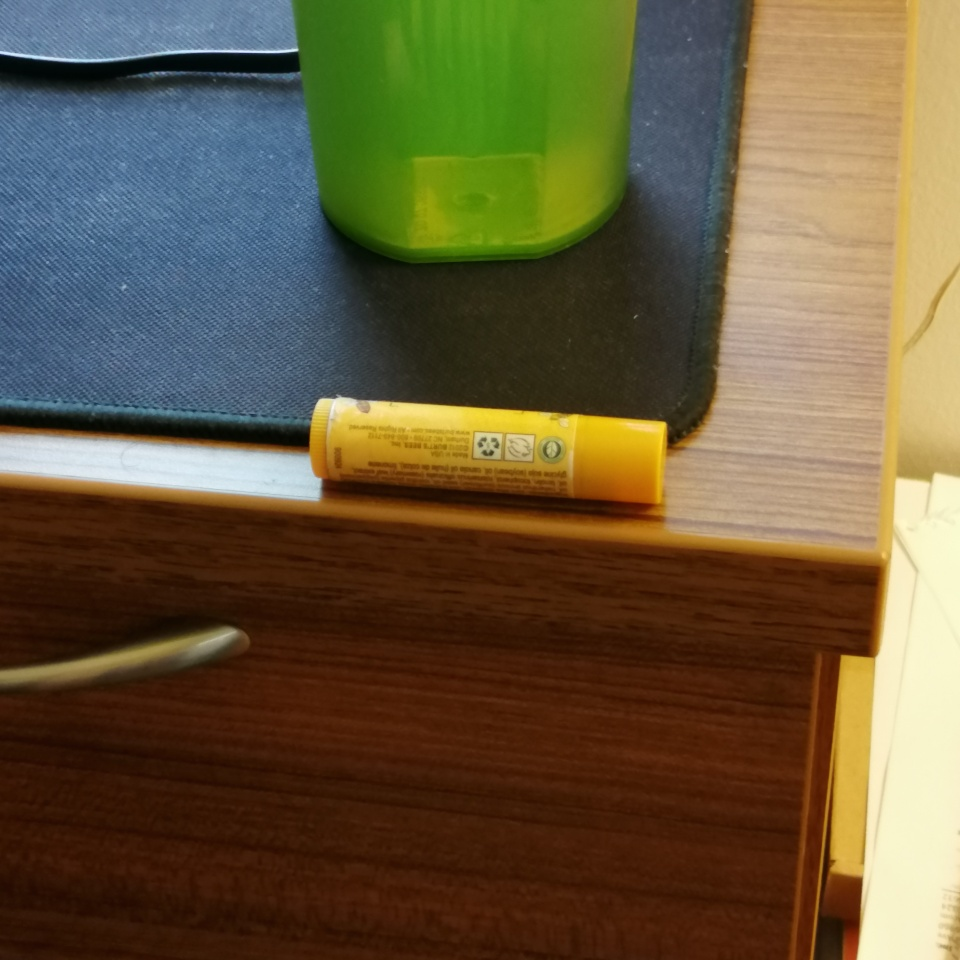chapstick: (310, 397, 668, 505)
